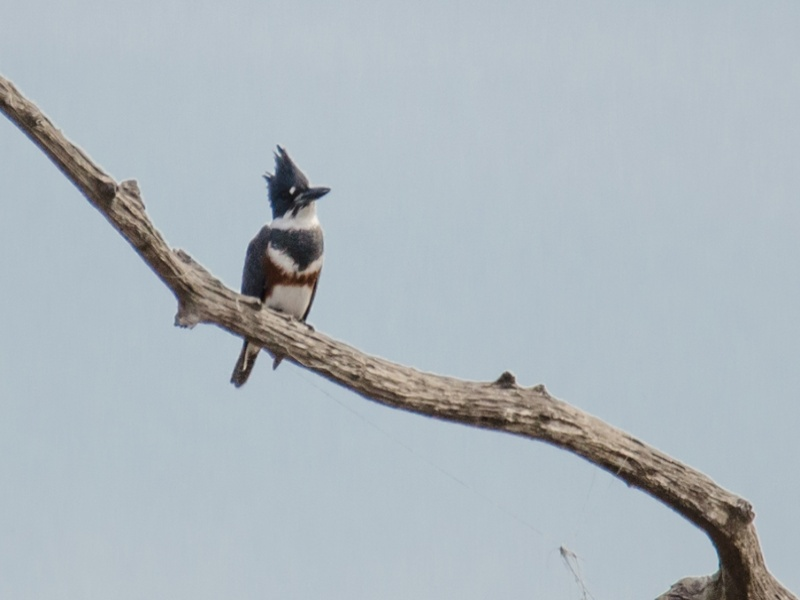kingfisher: (228, 145, 333, 389)
